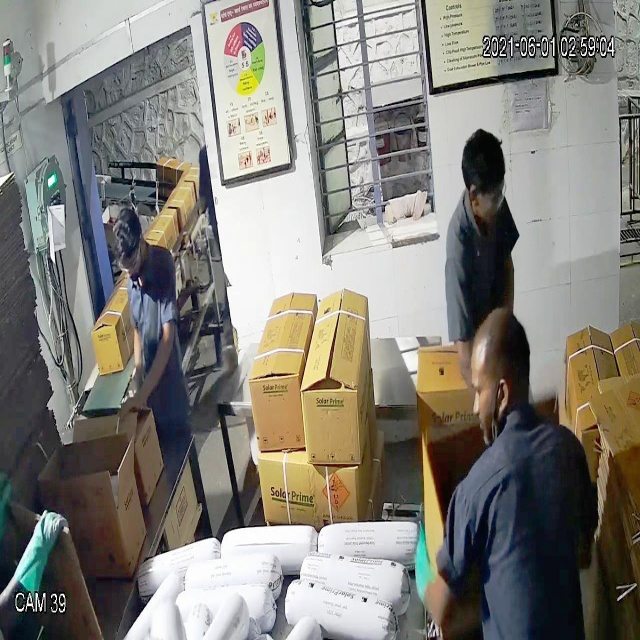Gafas: (113, 244, 146, 276)
